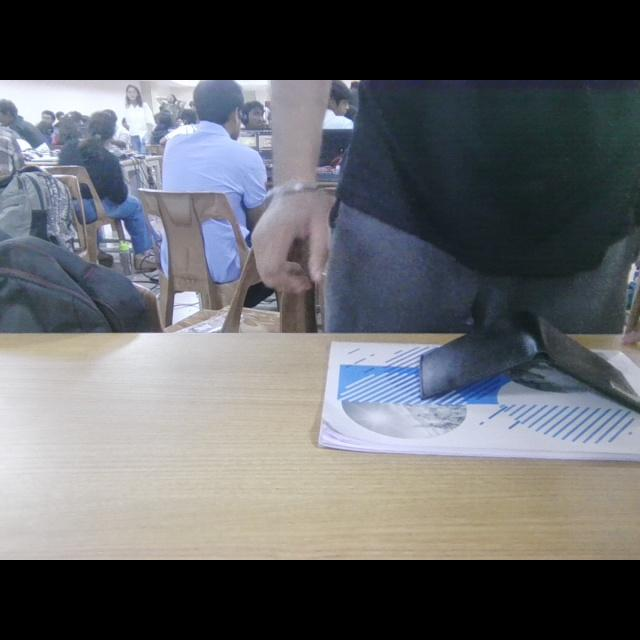wallet: (404, 298, 640, 418)
